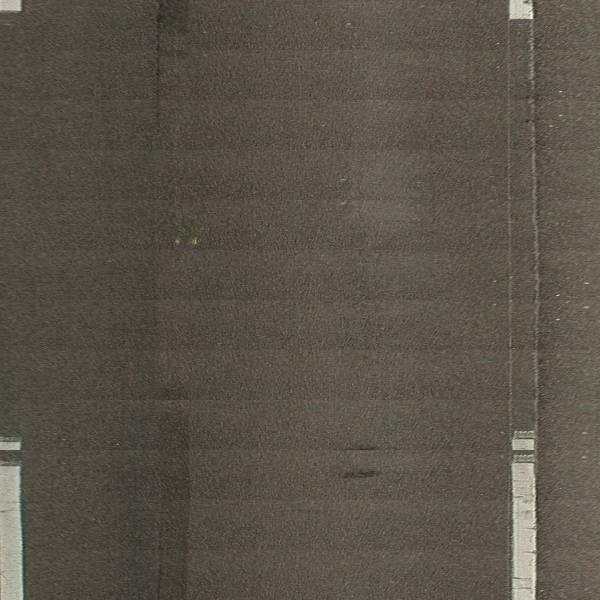road_damage: (339, 467, 384, 482)
